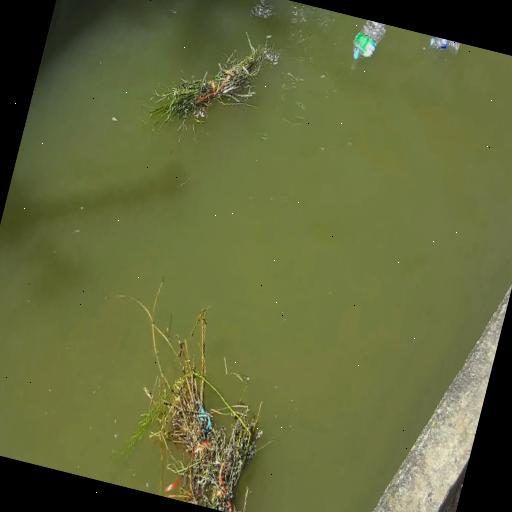plastic: (354, 20, 385, 59), (430, 37, 460, 54)
twig: (128, 279, 262, 512), (149, 37, 277, 128)
